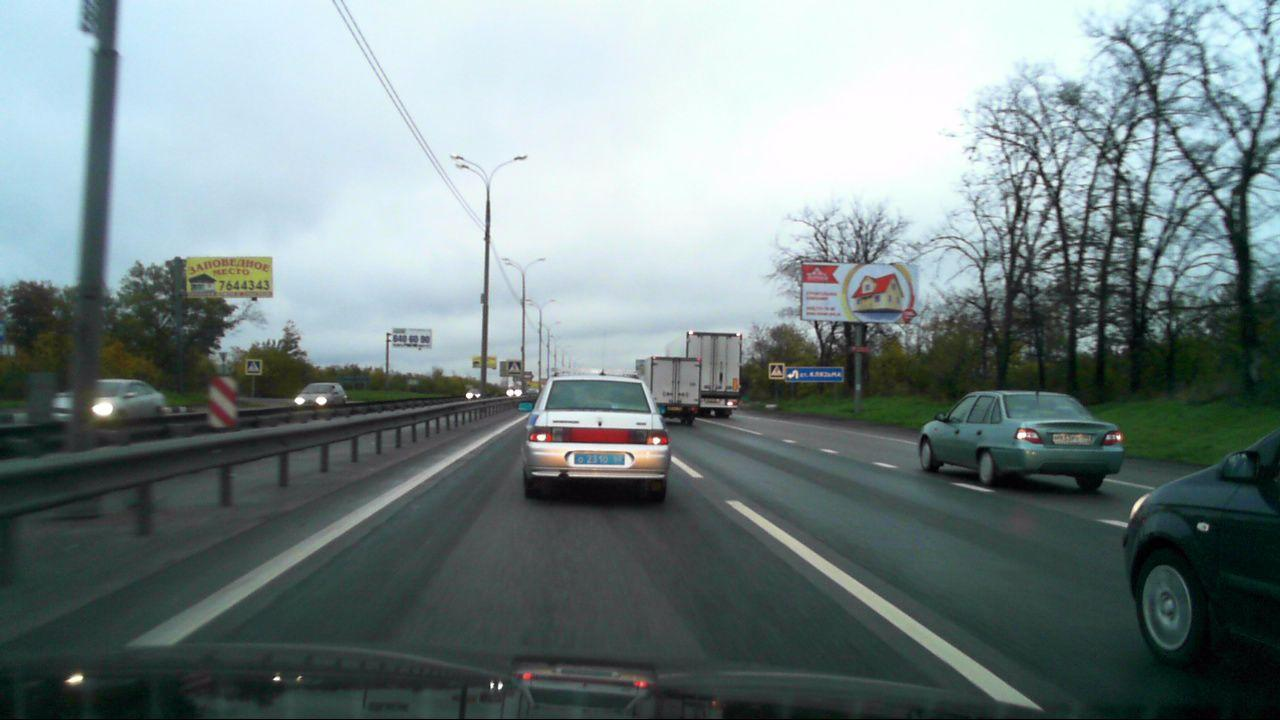5_19_1: (768, 362, 784, 379)
5_19_2: (246, 358, 262, 375), (508, 360, 522, 373)
6_10_1: (786, 366, 844, 384)
8_22_1: (211, 376, 238, 427)
